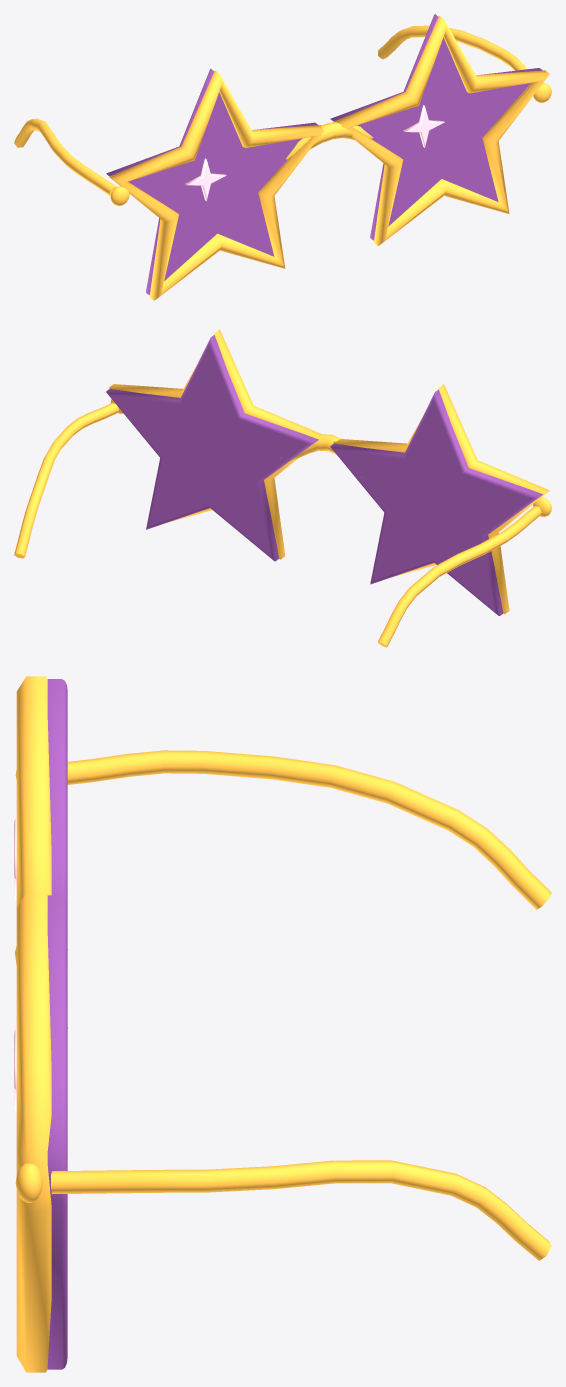
Rendered from disco_stars.glb.
3 renders of one model, top to bottom at view 1: azimuth 30°, elevation 25°; view 2: azimuth 150°, elevation 25°; view 3: azimuth 270°, elevation 25°, orthographic. The views are drawn at different scales.
Parts seen in each view (by area): view 1: Disco Starlets; view 2: Disco Starlets; view 3: Disco Starlets.
Part boxes in pixels (x1,y1,x2,y2): Disco Starlets: (14,14,551,300); Disco Starlets: (14,329,551,647); Disco Starlets: (14,676,551,1372).
Bounding box in the file's own units: 1 × 0.4532 × 0.5298.
